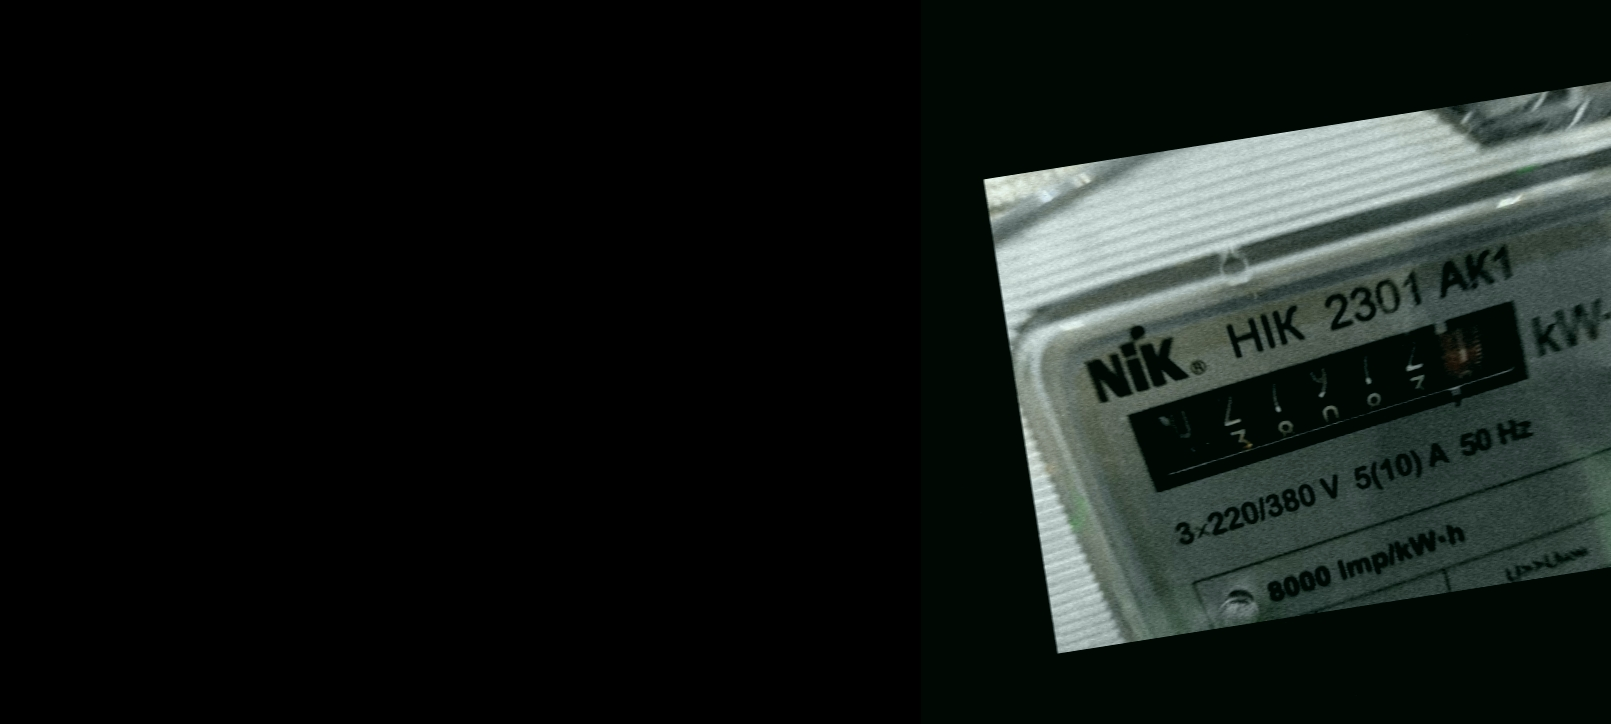0: (1164, 404, 1197, 444)
1: (1448, 323, 1476, 369)
2: (1211, 387, 1245, 430), (1395, 334, 1428, 375)
7: (1349, 347, 1381, 391), (1260, 378, 1288, 418)
9: (1305, 363, 1336, 402)
screen: (1101, 287, 1571, 509)
